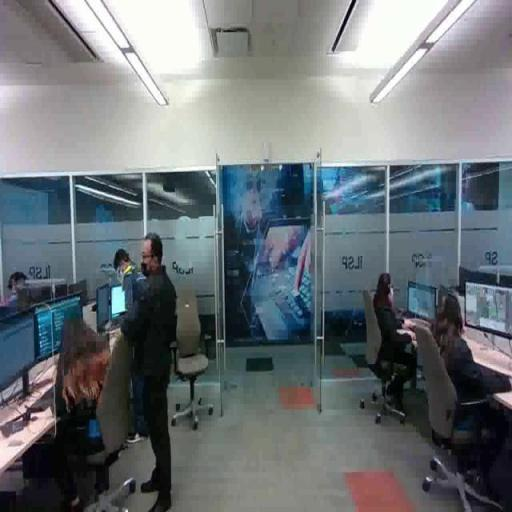person: (123, 233, 178, 512), (424, 295, 512, 444), (366, 269, 423, 409), (115, 253, 148, 447)
